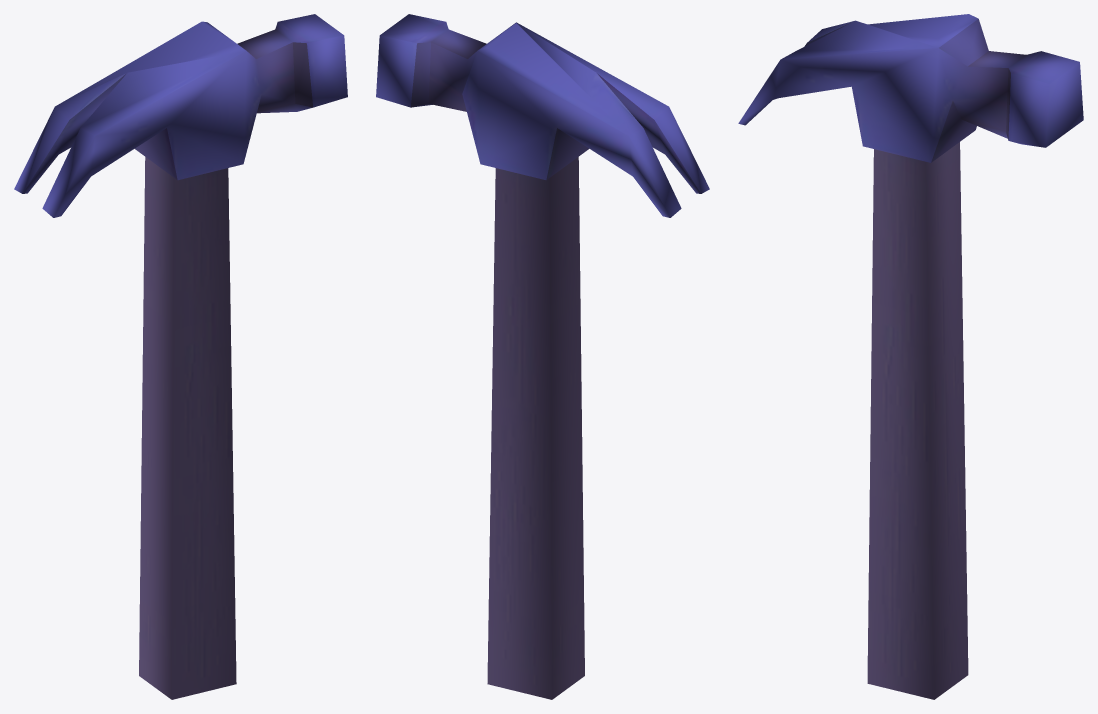
Rendered from model.progressive.glb.
3 views of the same model, side by side, from view 1: azimuth 30°, elevation 25°; view 2: azimuth 150°, elevation 25°; view 3: azimuth 330°, elevation 25° (orthographic). The views are drawn at different scales.
Parts seen in each view (by area): view 1: mesh_input; view 2: mesh_input; view 3: mesh_input.
Part boxes in pixels (x1,y1,x2,y2): mesh_input: [14, 14, 347, 699]; mesh_input: [376, 14, 709, 699]; mesh_input: [738, 14, 1083, 699].
Bounding box in the file's own units: 0.916 × 1.88 × 0.2305.
1 material, 1 textured.
